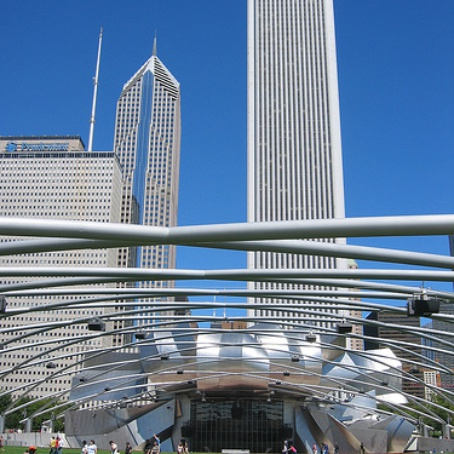building: (235, 1, 363, 324), (1, 141, 133, 390), (113, 28, 179, 317)
sky: (1, 1, 445, 290)
